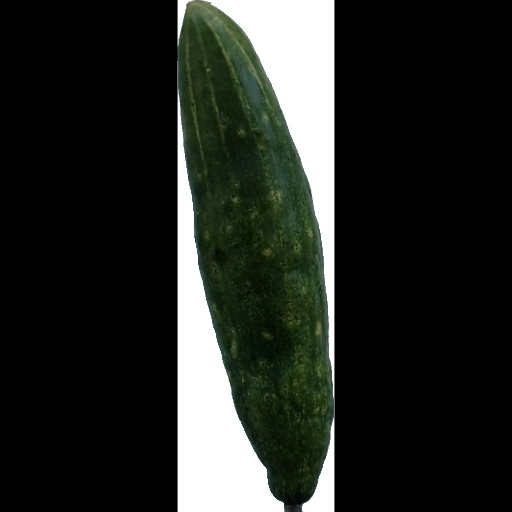concombre: (179, 1, 333, 512)
